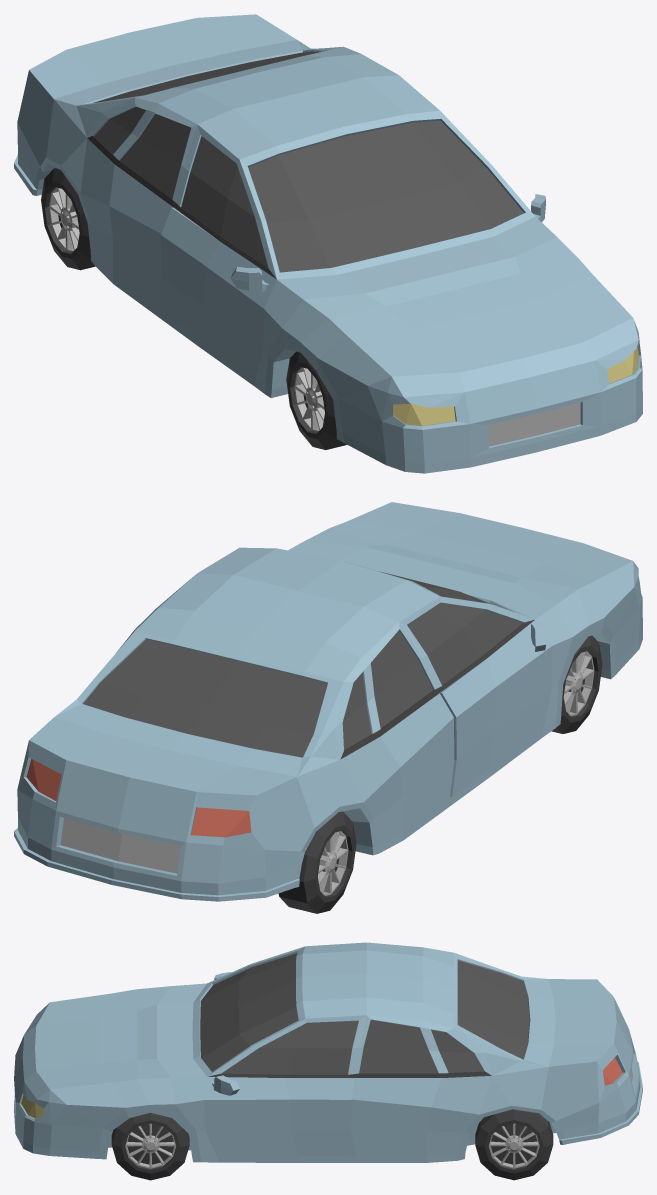
File: NormalCar1.fbx
The picture shows the model from 3 angles, top to bottom: view 1: azimuth 30°, elevation 25°; view 2: azimuth 150°, elevation 25°; view 3: azimuth 270°, elevation 25°; orthographic projection. The views are drawn at different scales.
Parts seen in each view (by area): view 1: Body, Wheels_Rear, Wheels_Front; view 2: Body, Wheels_Rear, Wheels_Front; view 3: Body, Wheels_Rear, Wheels_Front.
Boxes of the visible parts, x1,y1,x2,y2 form: Body: (14, 14, 642, 473); Wheels_Rear: (41, 168, 95, 270); Wheels_Front: (286, 351, 346, 449); Body: (14, 502, 642, 901); Wheels_Rear: (278, 811, 356, 913); Wheels_Front: (551, 635, 602, 733); Body: (14, 942, 642, 1162); Wheels_Rear: (475, 1109, 553, 1180); Wheels_Front: (111, 1112, 189, 1180).
Size of the model in its own units: 1.81 by 1.18 by 4.22.
